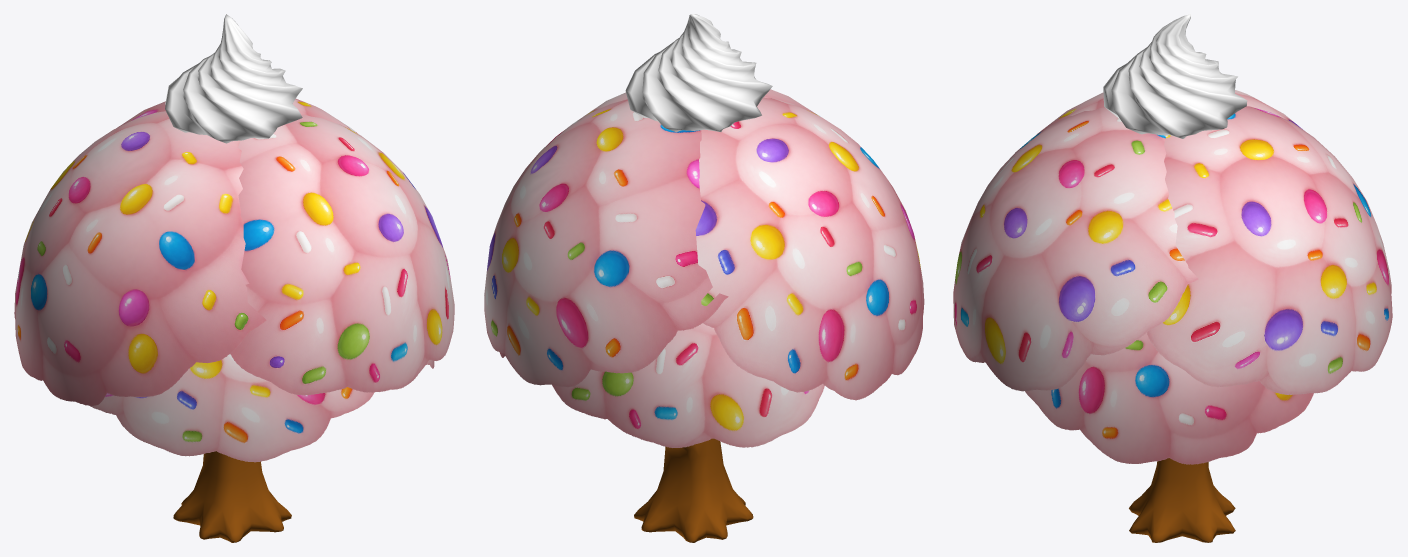
3 renders of one model, left to right at view 1: azimuth 30°, elevation 25°; view 2: azimuth 150°, elevation 25°; view 3: azimuth 270°, elevation 25°, orthographic.
Parts seen in each view (by area): view 1: tree_03.001; view 2: tree_03.001; view 3: tree_03.001.
Part boxes in pixels (bbox=[...]): tree_03.001: bbox=[14, 14, 454, 542]; tree_03.001: bbox=[484, 14, 924, 542]; tree_03.001: bbox=[953, 14, 1392, 542].
Bounding box in the file's own units: 1.13 × 1.44 × 1.13.
Materials: 3 (1 with a texture image).
